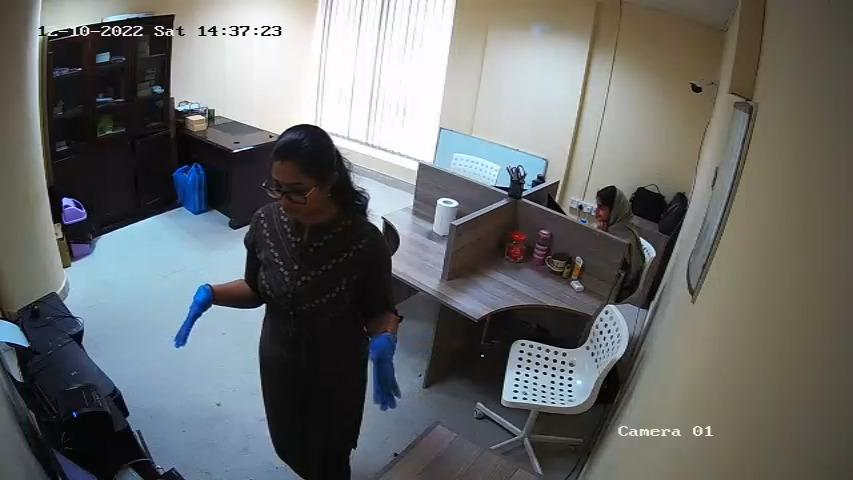gloves: (365, 333, 405, 413), (169, 281, 216, 347)
